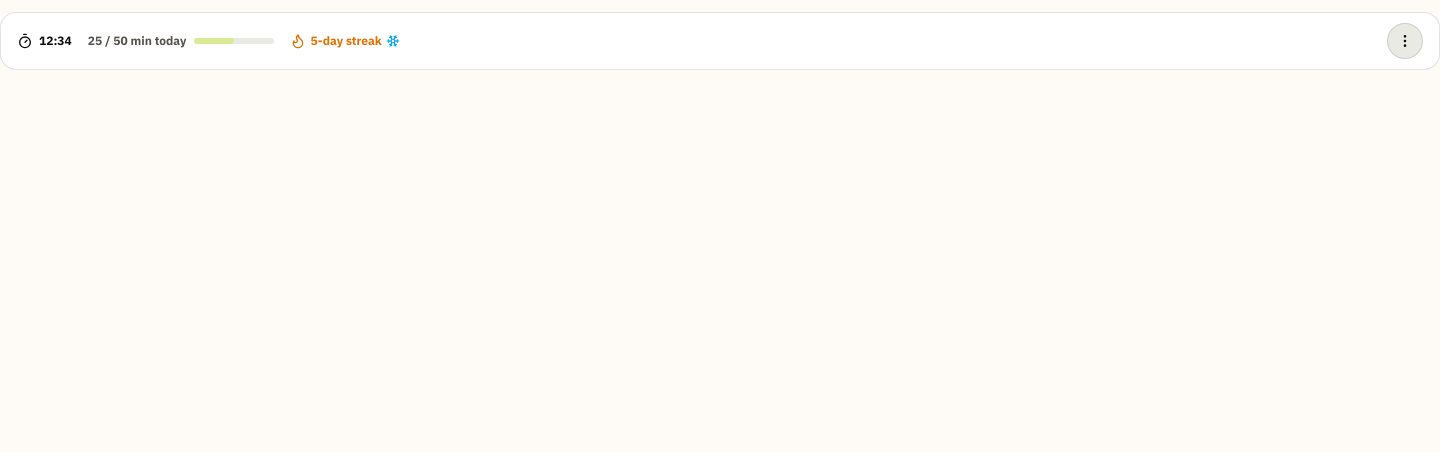
Scenario: goal for this visit › shows the goal, its progress, and says so once when it is reached
Later steps or results of the test are not shown.
Click the button named "Study session options". click: (1405, 41)
box: top-left (1387, 23), bottom-right (1423, 59)
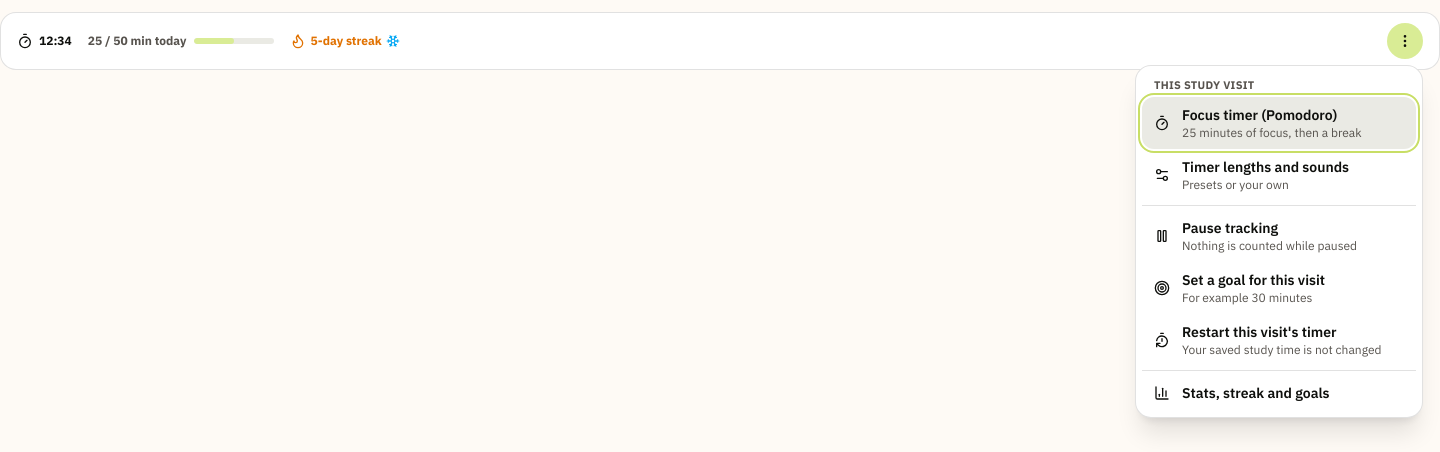
Click the menu item "Set a goal for this visit For example 30 minutes". click: (1279, 288)
box: top-left (1142, 262), bottom-right (1416, 314)
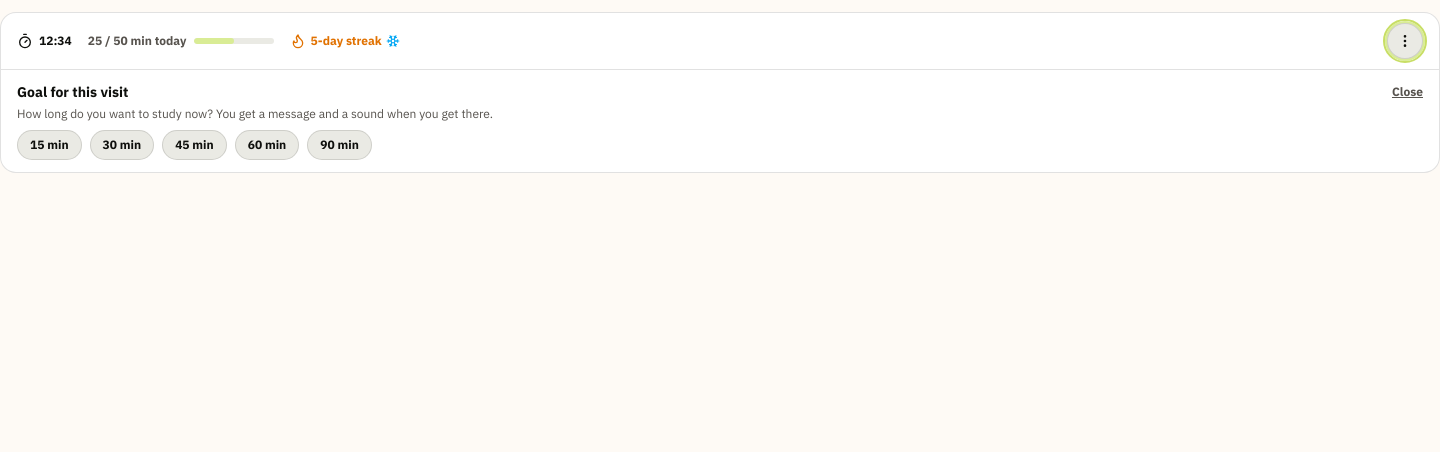
expect the element named "Goal for this visit" is shown: met, box top-left (1, 69), bottom-right (1439, 172)
Click the button "15 min". click: (49, 145)
box: top-left (17, 130), bottom-right (82, 160)
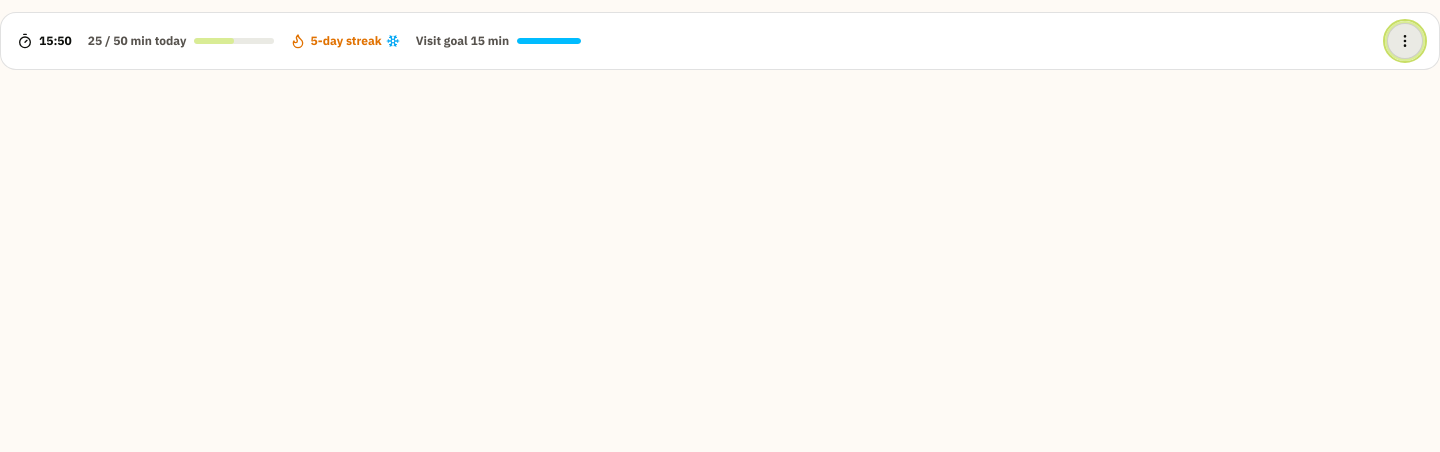
expect the text "Visit goal 15 min" is shown: met, box top-left (416, 33), bottom-right (581, 49)
